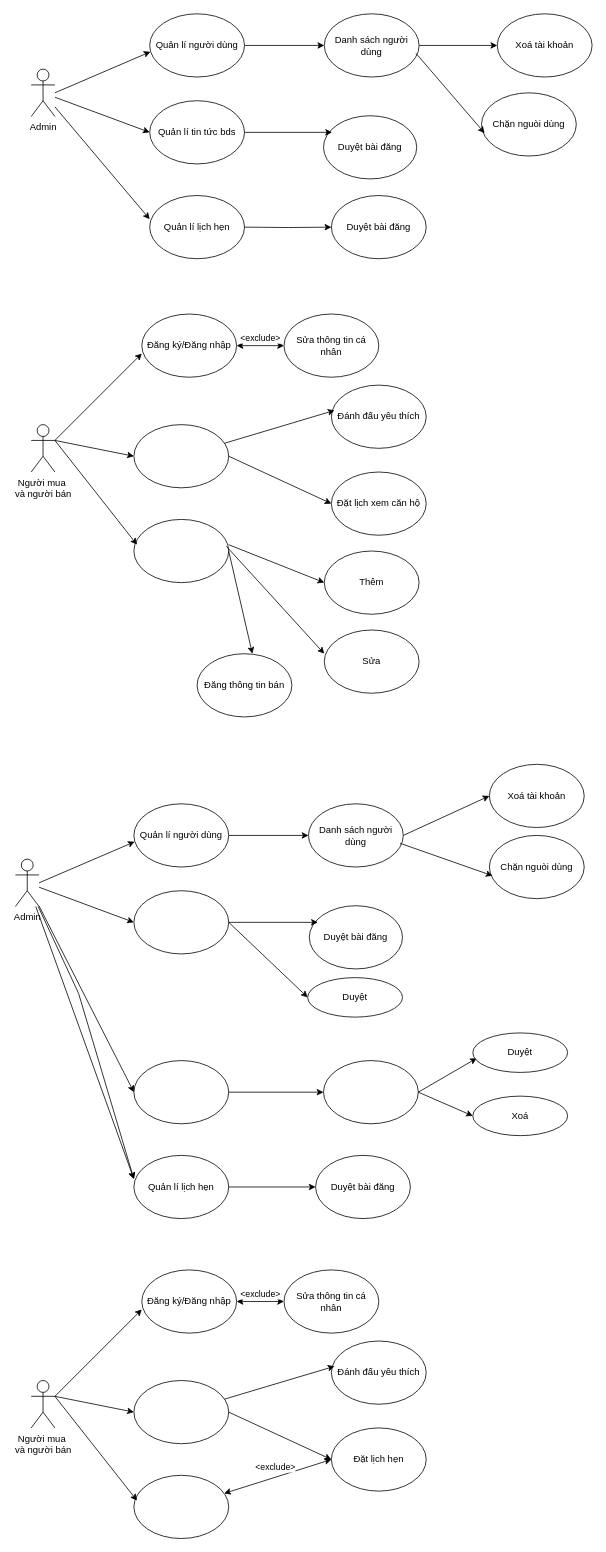
Image size: 606x1552. Some labels were removed from this diagram. Here are the shapes that lost their labels. From the top down, the box of each, then its label:
(133, 424, 229, 488): Tìm kiếm và lọc căn hộ
(133, 519, 229, 583): Quản lí căn hộ
(133, 890, 229, 954): Quản lí giao dịch
(133, 1060, 229, 1124): Quản lí đăng bán bds
(323, 1060, 418, 1124): Chi tiết bất động sản
(133, 1380, 229, 1444): Tìm kiếm và lọc thong tin bds
(133, 1475, 229, 1539): Quản lí thông tin giao dich cá nhân
